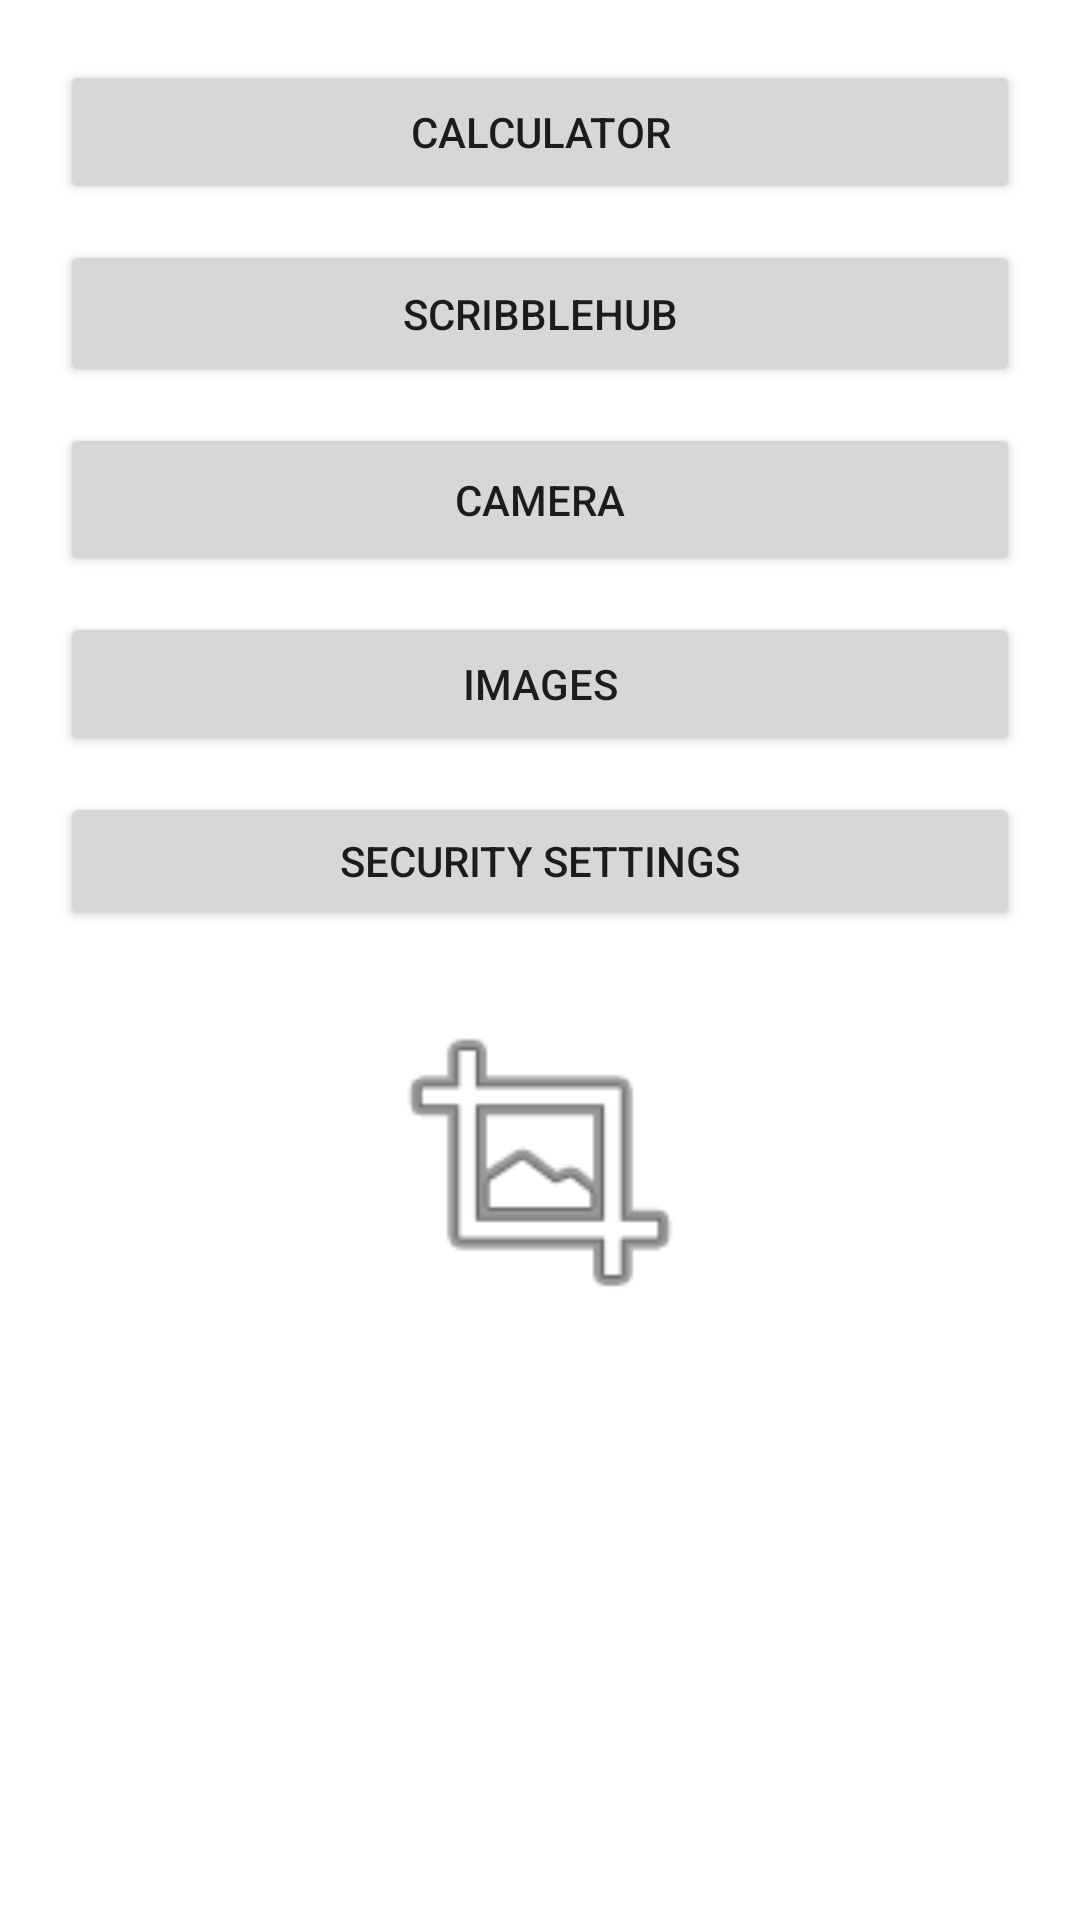

Named icons in this screenshot (1080*1920) and their bounding boxes, (x1, y1, x2, y2):
crop: (409, 1039, 671, 1287)
